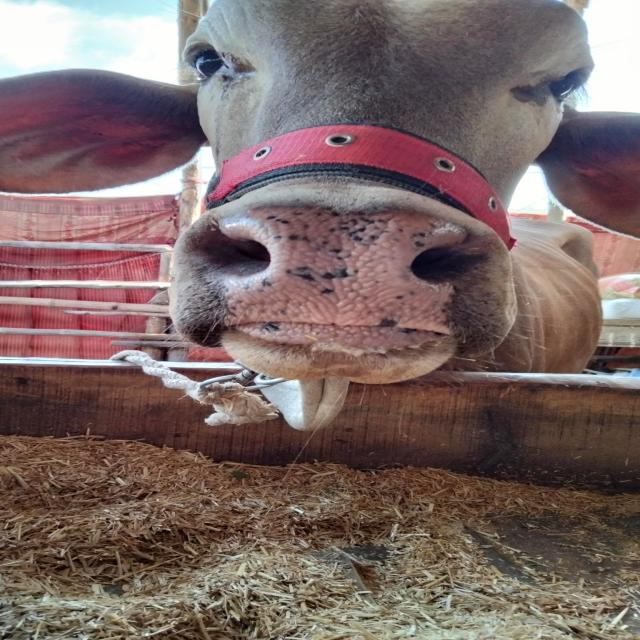muzzles: (194, 196, 494, 344)
